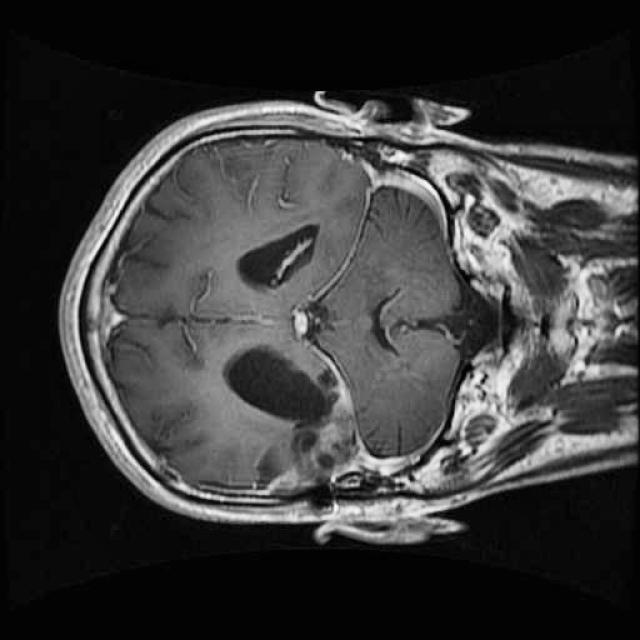Non-Tumor: (268, 359, 389, 501)
